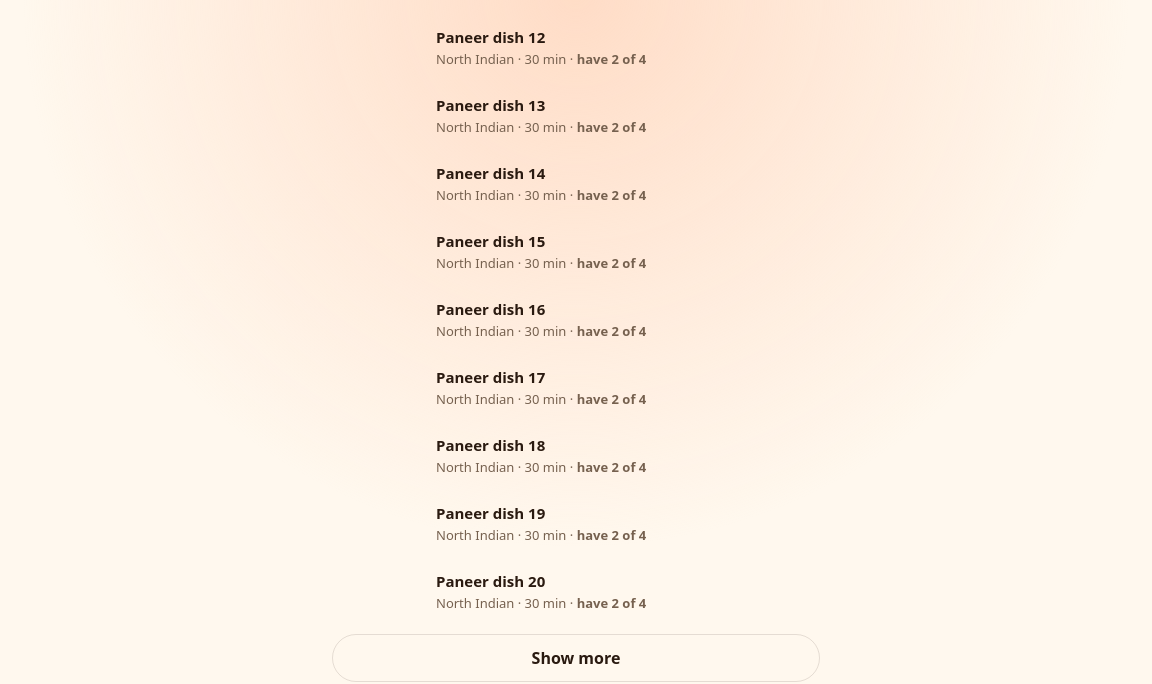
Test: See all shows every match and pages through them
(page scrolled)
What coordinates should you click on to do the following:
click the button "Show more"
I would click on:
 (576, 658)
Its box is [332, 634, 820, 682].
(page scrolled)
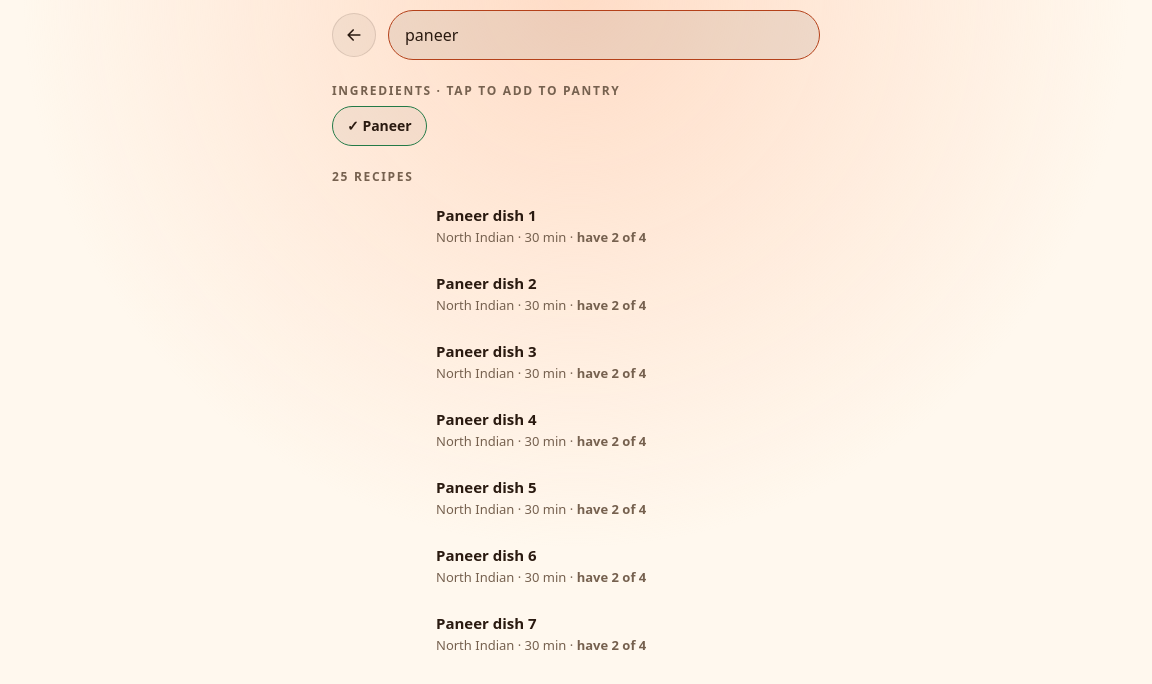
Check: the button "✓ Paneer" is shown, box [332, 106, 427, 146]
Check: the number of links "Paneer dish 1 North Indian · 30 min · have 2 of 4" is 25
Check: the button "Show more" is gone
